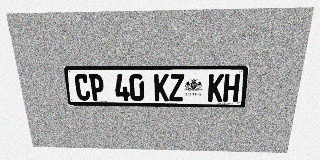0: (129, 74, 144, 101)
4: (114, 74, 130, 101)
C: (74, 74, 91, 101)
H: (223, 74, 240, 102)
K: (207, 74, 224, 102), (154, 74, 169, 101)
P: (88, 74, 105, 101)
Z: (169, 74, 184, 101)
